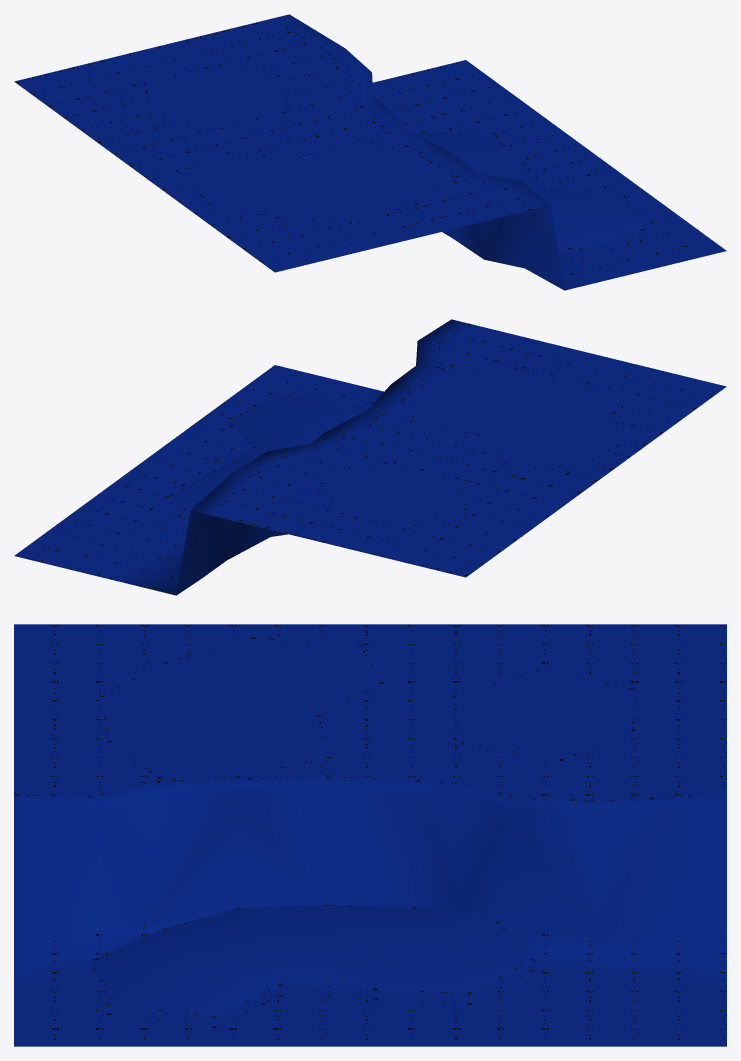
The model's file is GRD_S_C3_3.fbx.
3 renders of one model, top to bottom at view 1: azimuth 30°, elevation 25°; view 2: azimuth 150°, elevation 25°; view 3: azimuth 270°, elevation 25°, orthographic. The views are drawn at different scales.
Visible parts, largest first — view 1: material_00022000, material_C0032000, material_00042000, material_C0012000, material_C0052000; view 2: material_00022000, material_C0032000, material_00042000, material_C0012000; view 3: material_00022000, material_00042000, material_C0032000, material_C0012000, material_C0052000.
Boxes of the visible parts, x1,y1,x2,y2 form: material_00022000: (14, 19, 726, 290); material_C0032000: (143, 67, 454, 223); material_00042000: (268, 14, 564, 290); material_C0012000: (416, 131, 646, 250); material_C0052000: (557, 231, 646, 257); material_00022000: (14, 324, 726, 595); material_C0032000: (321, 368, 620, 529); material_00042000: (176, 319, 472, 595); material_C0012000: (169, 394, 364, 515); material_00022000: (14, 624, 726, 1046); material_00042000: (14, 775, 726, 938); material_C0032000: (97, 637, 636, 779); material_C0012000: (92, 904, 535, 1018); material_C0052000: (92, 963, 535, 1028).
Bounding box in the file's own units: 12800 × 2400 × 12800.
